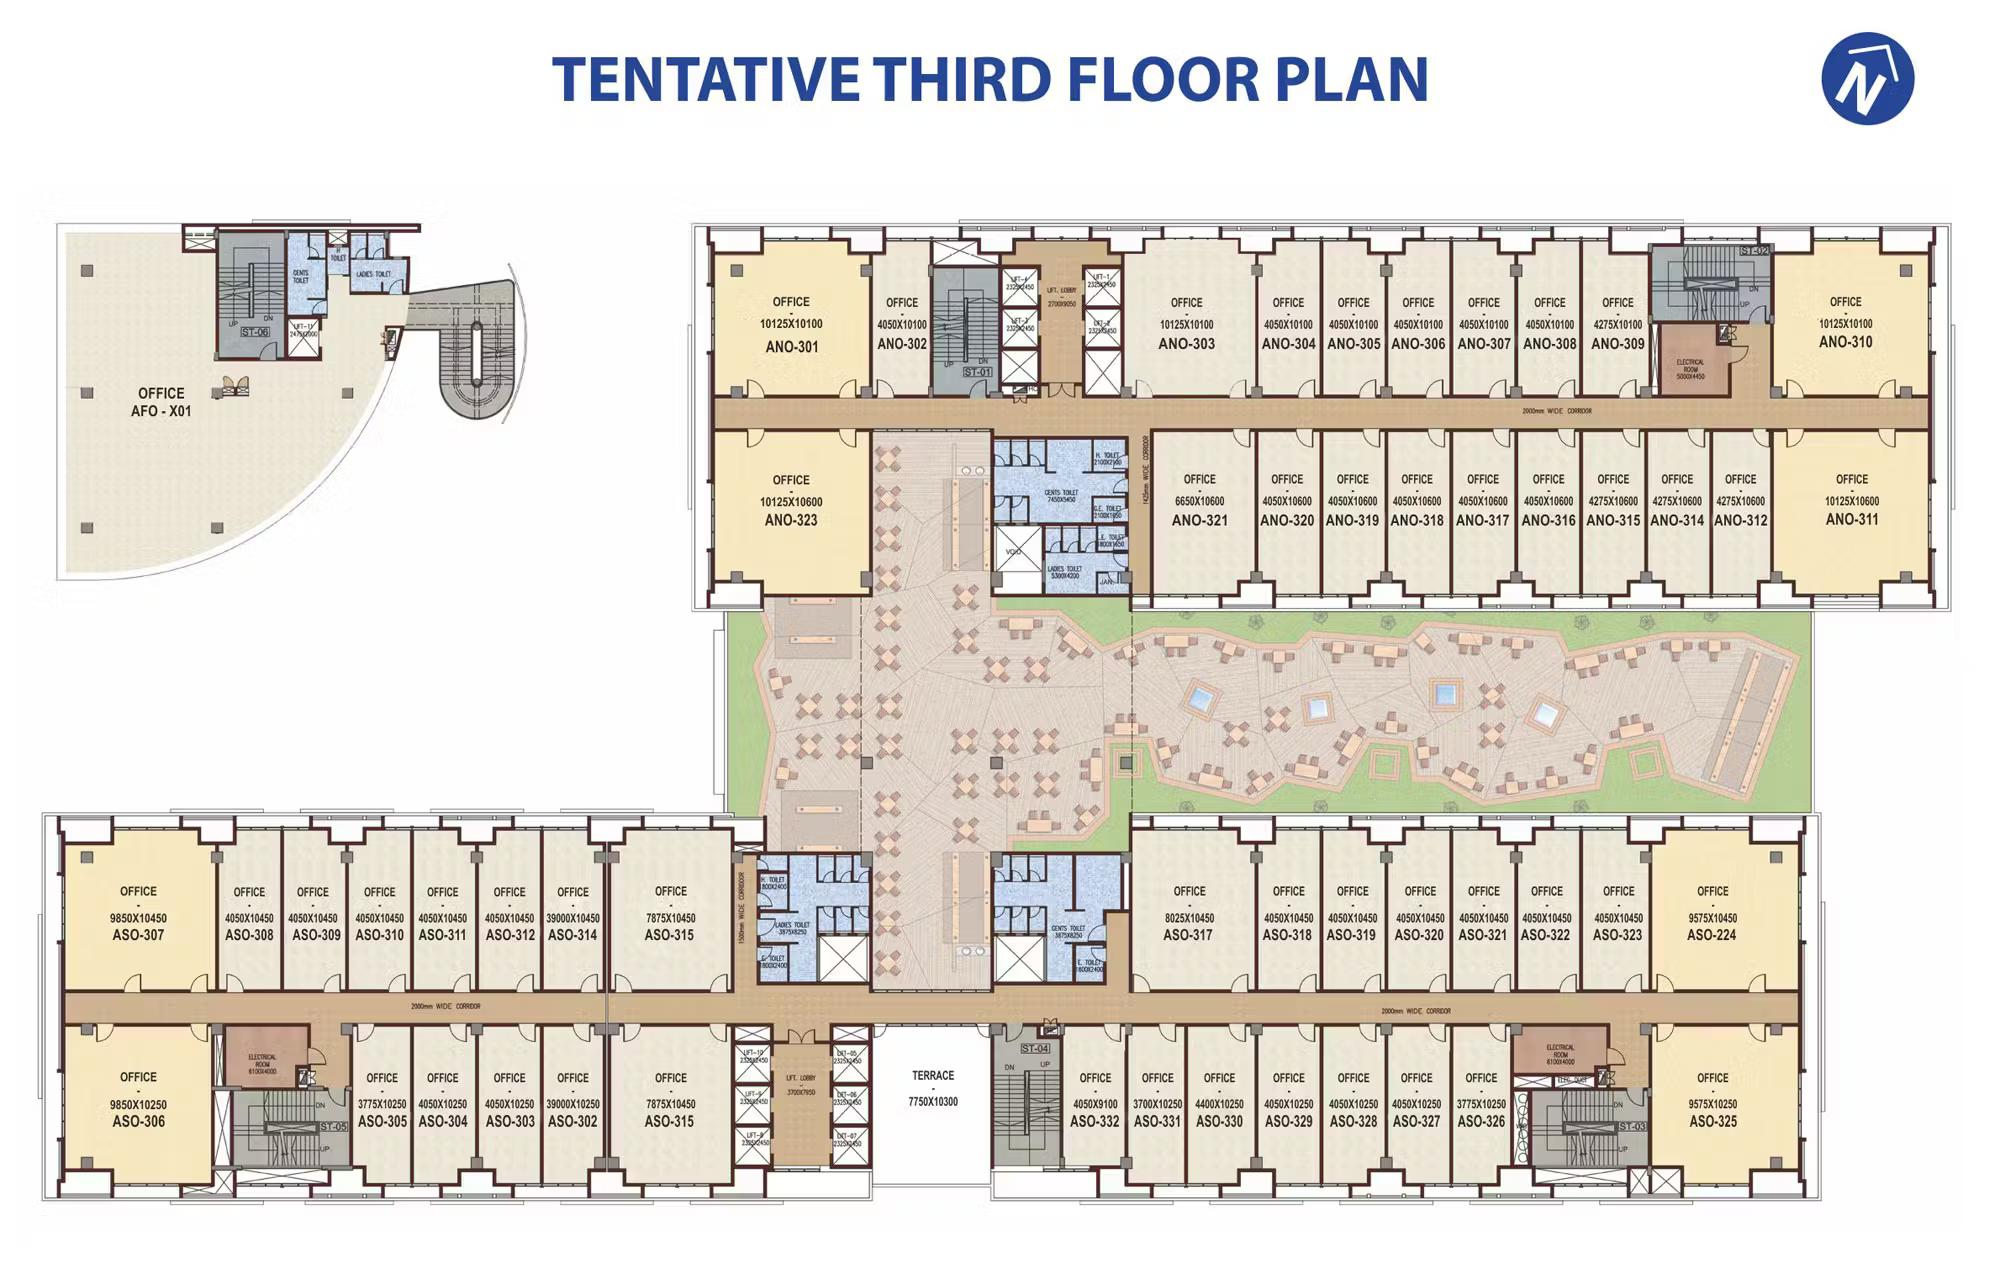room: (711, 429, 871, 597), (708, 234, 871, 397), (63, 828, 218, 991), (1772, 428, 1930, 582), (63, 1023, 212, 1184), (1773, 252, 1930, 396), (1651, 841, 1801, 991), (1651, 1024, 1801, 1170), (1124, 233, 1255, 397), (873, 234, 1001, 397), (1130, 826, 1257, 991), (1001, 231, 1124, 399), (607, 1024, 733, 1184), (609, 829, 733, 991), (871, 1024, 992, 1186), (993, 853, 1130, 984), (1152, 431, 1257, 597), (759, 854, 871, 984), (992, 435, 1129, 521), (1185, 1024, 1258, 1184), (1581, 828, 1651, 991), (1321, 231, 1388, 397), (1581, 237, 1651, 396), (212, 1087, 351, 1167), (1386, 228, 1452, 397), (1321, 429, 1386, 595), (1321, 826, 1386, 991), (1386, 429, 1450, 597), (1516, 429, 1580, 597), (1647, 429, 1711, 597), (1257, 233, 1322, 396), (1516, 828, 1581, 991), (1386, 828, 1452, 991), (1257, 828, 1322, 991), (1322, 1023, 1388, 1186), (412, 828, 477, 991), (1452, 429, 1516, 595), (1581, 429, 1645, 595), (218, 828, 282, 992), (1386, 1024, 1452, 1184), (477, 1024, 543, 1184), (1258, 429, 1321, 597), (1452, 828, 1516, 991), (479, 828, 543, 991), (348, 828, 412, 991), (284, 828, 348, 991), (1516, 239, 1581, 396), (1257, 1024, 1321, 1184), (543, 1024, 607, 1184), (1453, 233, 1516, 396), (992, 524, 1132, 597), (412, 1026, 476, 1184), (1711, 429, 1772, 595), (543, 829, 604, 991), (1452, 1024, 1513, 1184), (351, 1024, 412, 1184), (1127, 1023, 1185, 1184), (1062, 1023, 1126, 1167), (212, 1024, 310, 1088), (1660, 322, 1729, 396), (1511, 1024, 1609, 1074), (733, 1125, 772, 1167), (733, 1042, 772, 1084), (832, 1084, 871, 1125), (733, 1084, 772, 1125), (832, 1125, 870, 1167), (832, 1043, 871, 1083)
